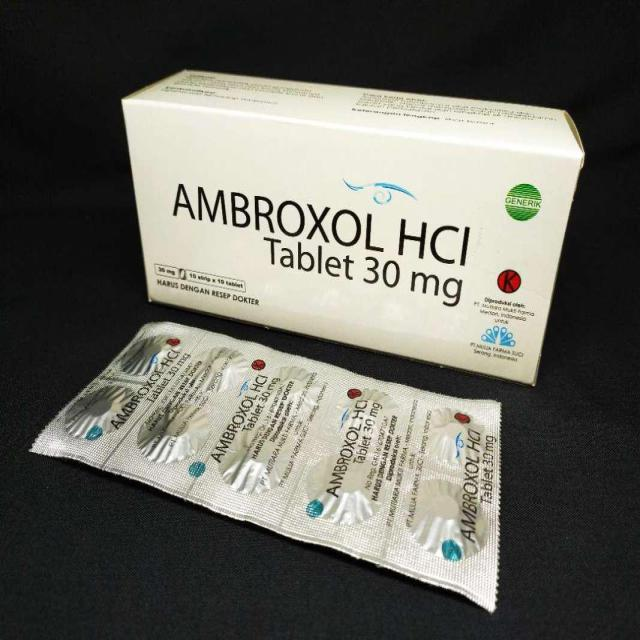drug-name: (169, 173, 396, 259)
